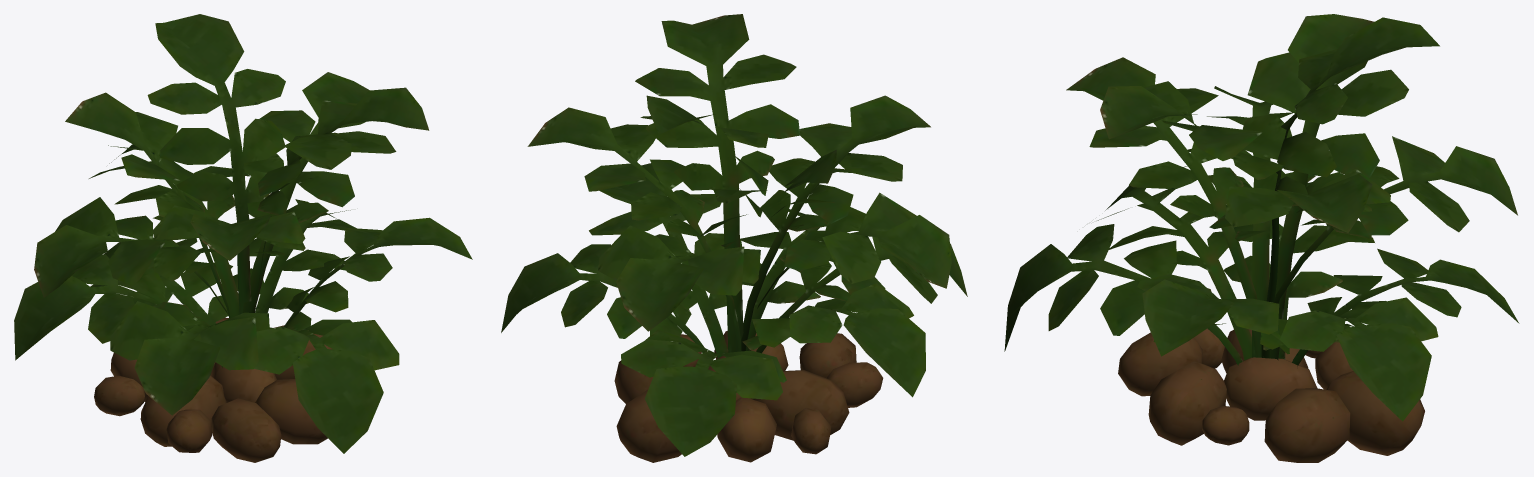
Rendered from SM_pal_b00_props_FarmCrops_potato_03_981795.glb.
The picture shows the model from 3 angles, left to right: view 1: azimuth 30°, elevation 25°; view 2: azimuth 150°, elevation 25°; view 3: azimuth 270°, elevation 25°; orthographic projection. The views are drawn at different scales.
Size of the model in its own units: 0.7908 by 0.704 by 0.8288.
Materials: 2 (2 with a texture image).
